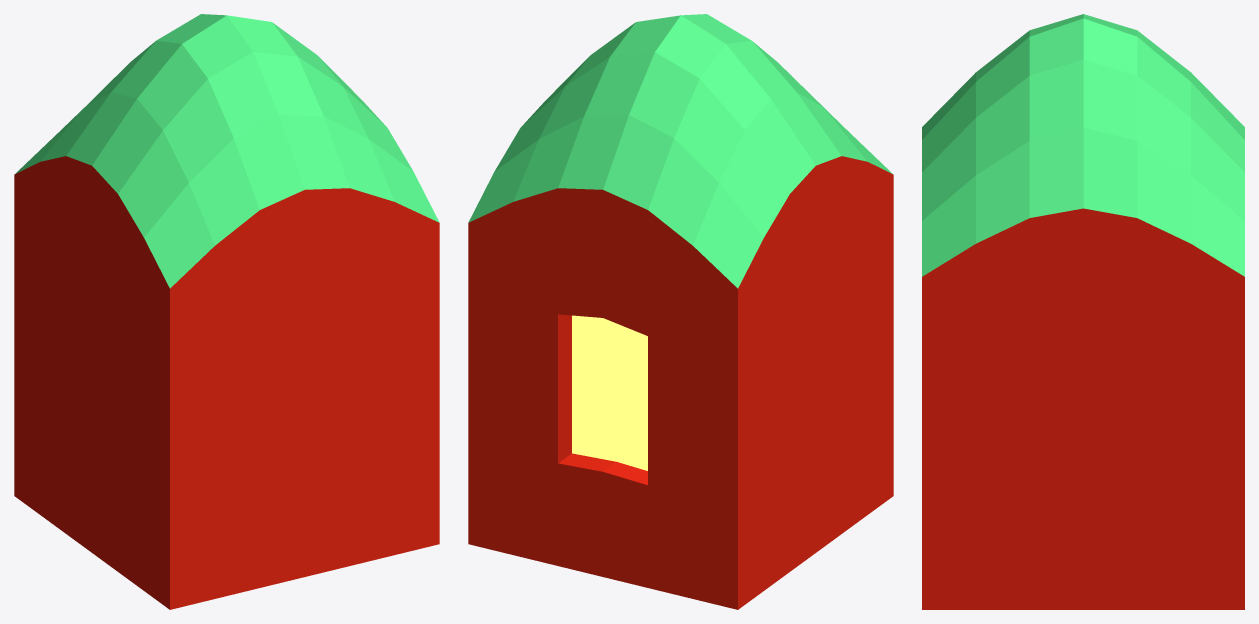
The picture shows the model from 3 angles, left to right: view 1: azimuth 30°, elevation 25°; view 2: azimuth 150°, elevation 25°; view 3: azimuth 270°, elevation 25°; orthographic projection. The views are drawn at different scales.
Parts seen in each view (by area): view 1: Cube; view 2: Cube; view 3: Cube.
Part boxes in pixels (x1,y1,x2,y2): Cube: (14,14,439,609); Cube: (468,14,893,609); Cube: (922,14,1244,609).
Bounding box in the file's own units: 3.58 × 6.4 × 3.58.
